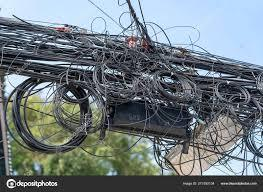wires-only: (0, 17, 263, 161)
